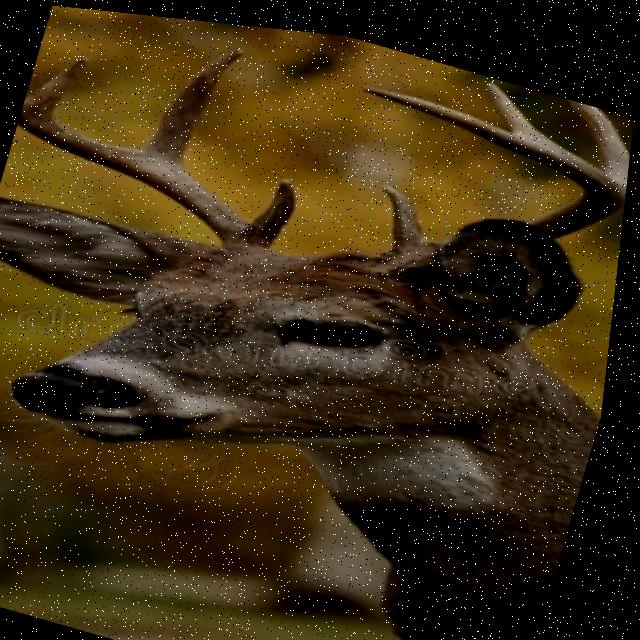L-G1: (385, 176, 430, 237)
L-G2: (566, 86, 632, 172)
R-G1: (246, 173, 301, 237)
R-G2: (146, 43, 243, 160)
